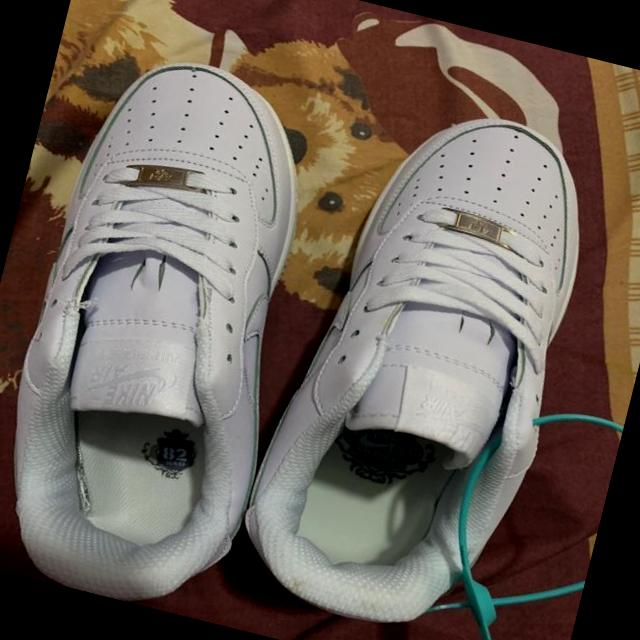nike_fake_airforce: (223, 78, 618, 640), (0, 36, 349, 623)
